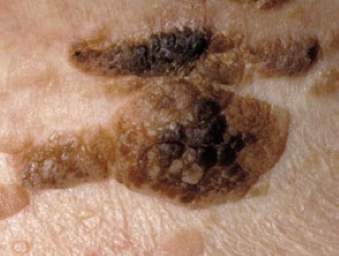seborrheic keratosis: (11, 10, 321, 231)
